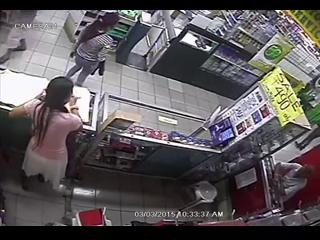Normal: (8, 76, 84, 196), (65, 30, 118, 88)
